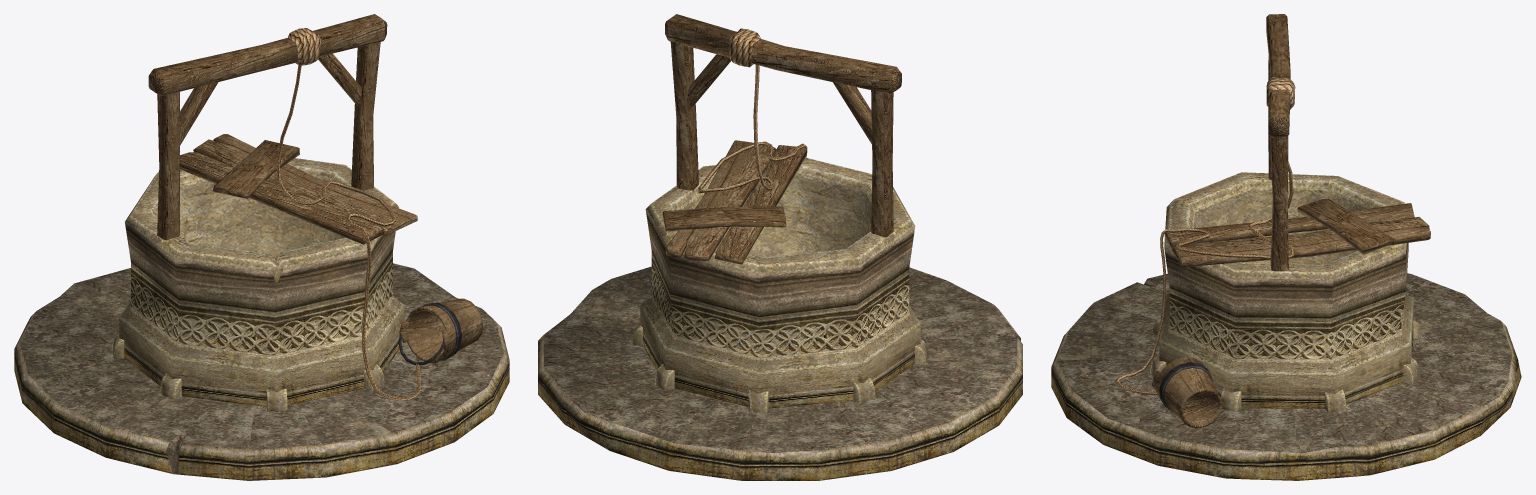
Rendered from well.obj.
3 renders of one model, left to right at view 1: azimuth 30°, elevation 25°; view 2: azimuth 150°, elevation 25°; view 3: azimuth 270°, elevation 25°, orthographic. The views are drawn at different scales.
Visible parts, largest first — view 1: well.obj; view 2: well.obj; view 3: well.obj.
Part boxes in pixels (x1=…): well.obj: x1=14, y1=14, x2=509, y2=480; well.obj: x1=538, y1=14, x2=1022, y2=480; well.obj: x1=1051, y1=14, x2=1521, y2=480.
Size of the model in its own units: 96.61 by 72.81 by 96.97.
Materials: 6 (6 with a texture image).
